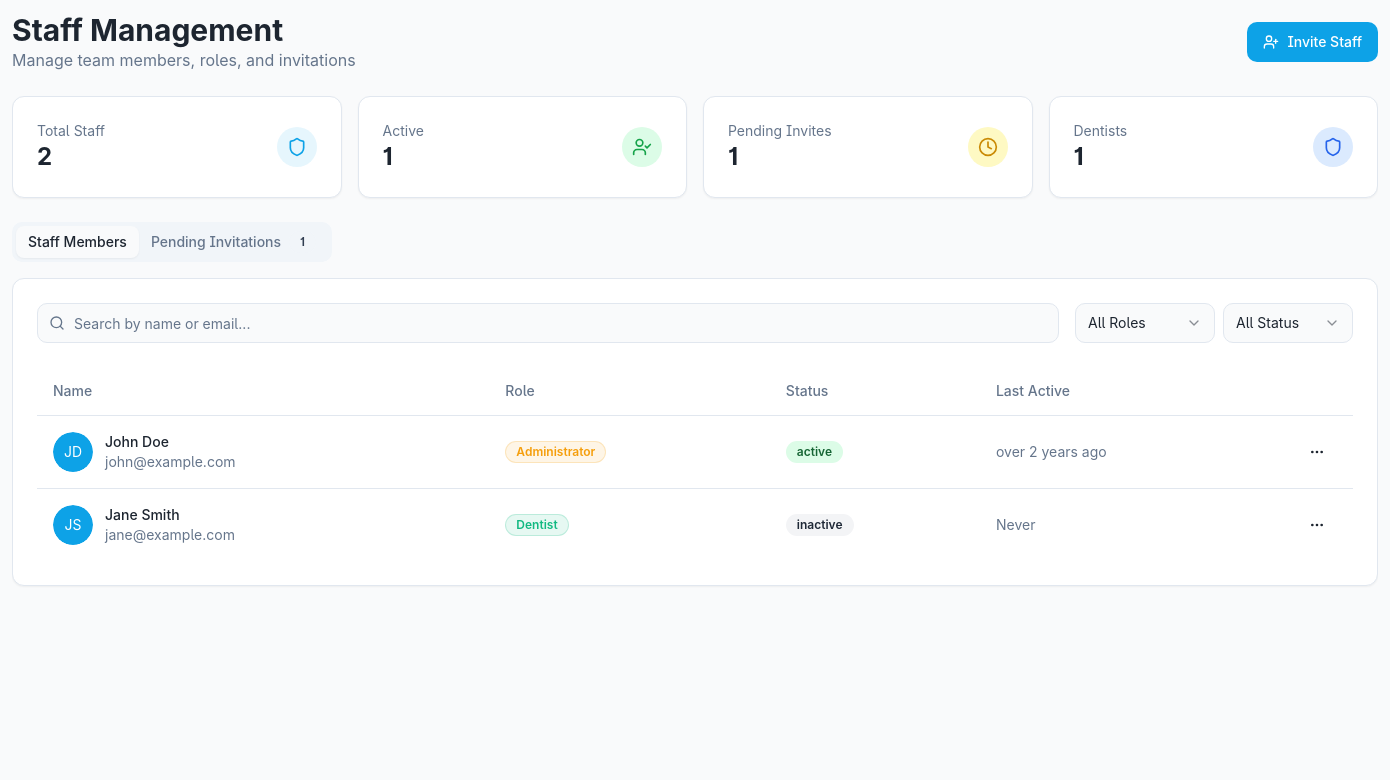
Test case: StaffManagement Page › filters staff members by search query
The image size is (1390, 780).
Expected: the text "John Doe" is shown, [105,432,169,450]
Type "Jane" into the field with placeholder "Search by name or email..." at x=548, y=323, box [37,303,1059,343]
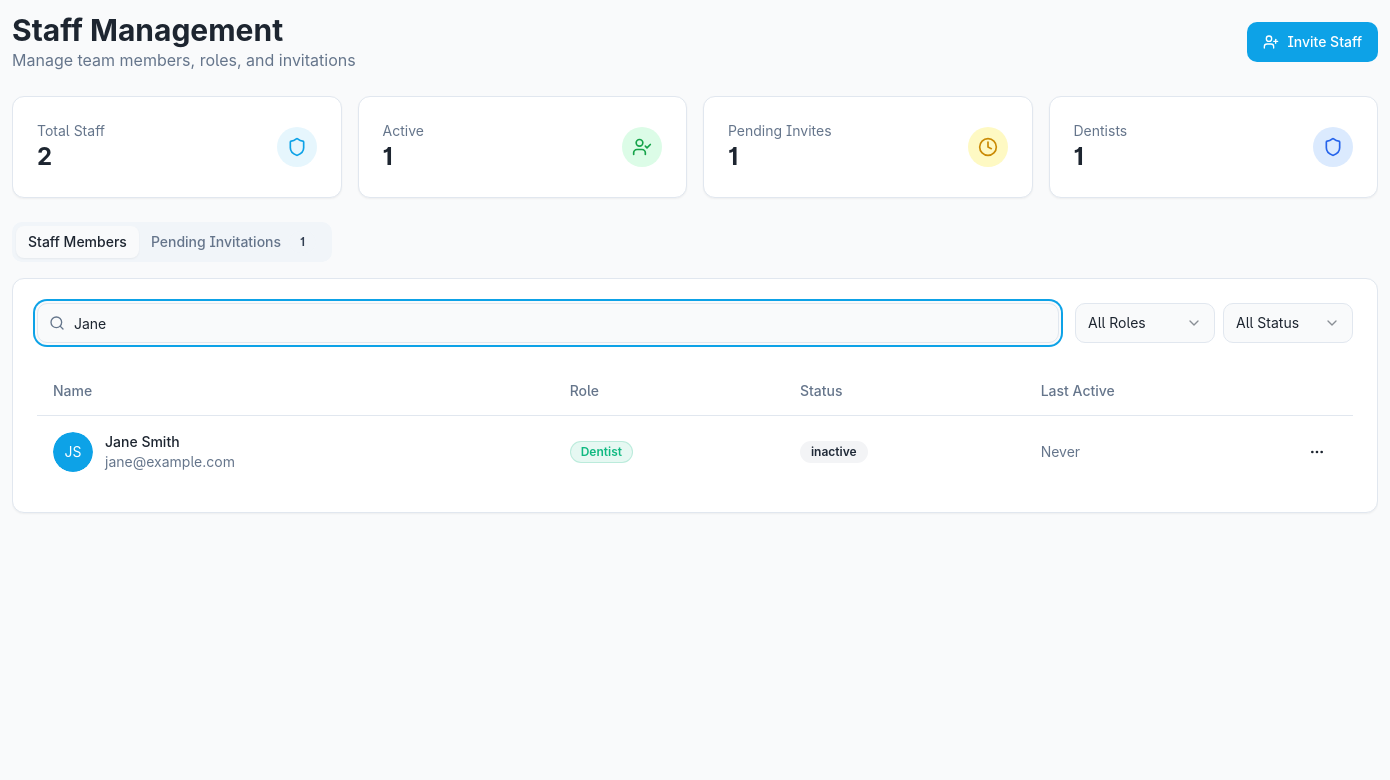
Expected: the text "Jane Smith" is shown, [105,432,180,450]
Expected: the text "John Doe" is gone
